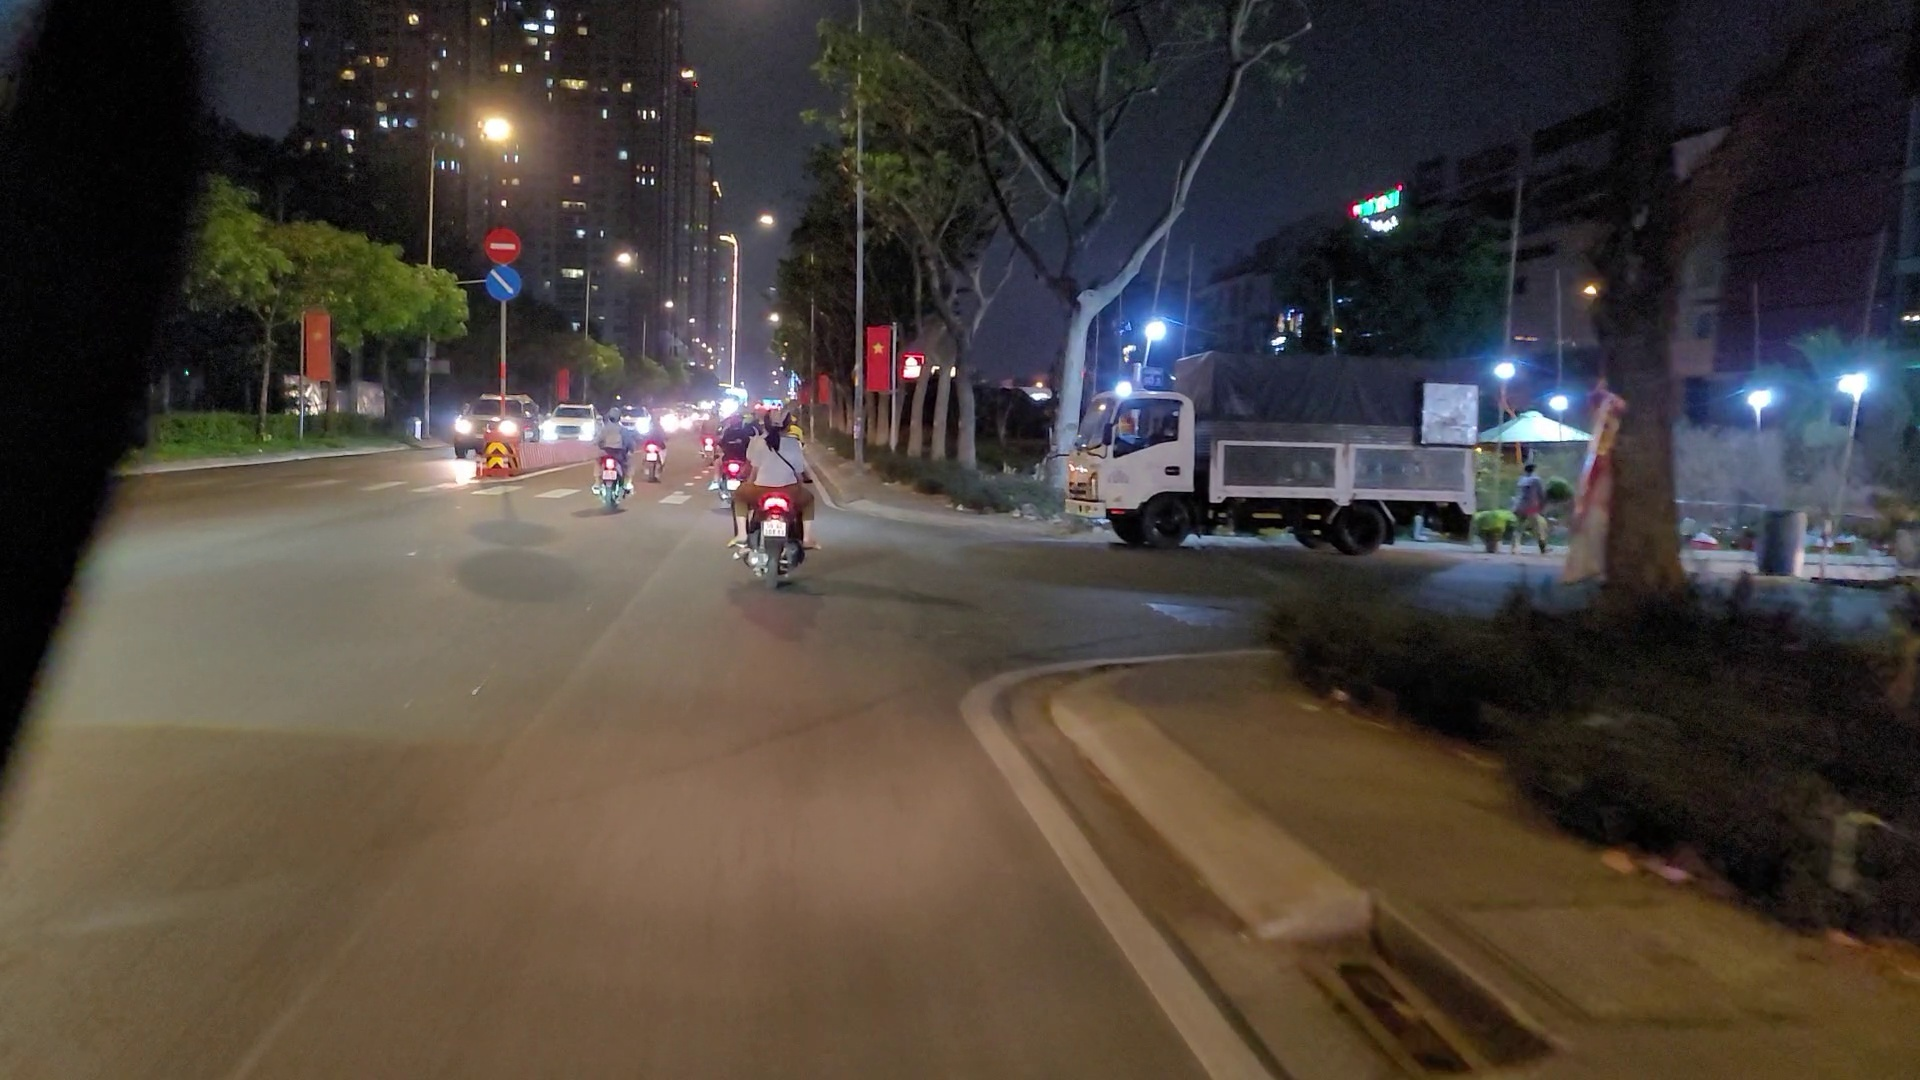Cam di nguoc chieu: (483, 225, 522, 262)
Huong di phai re phai: (484, 262, 524, 301)
